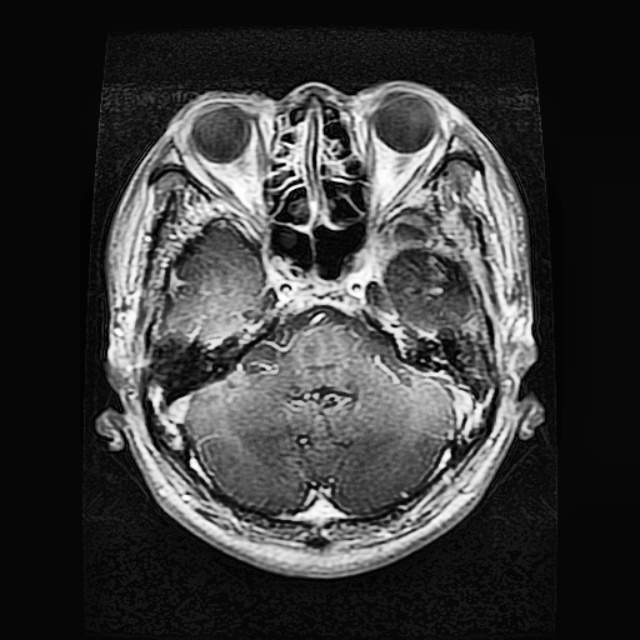Glioma: (387, 247, 472, 337)
